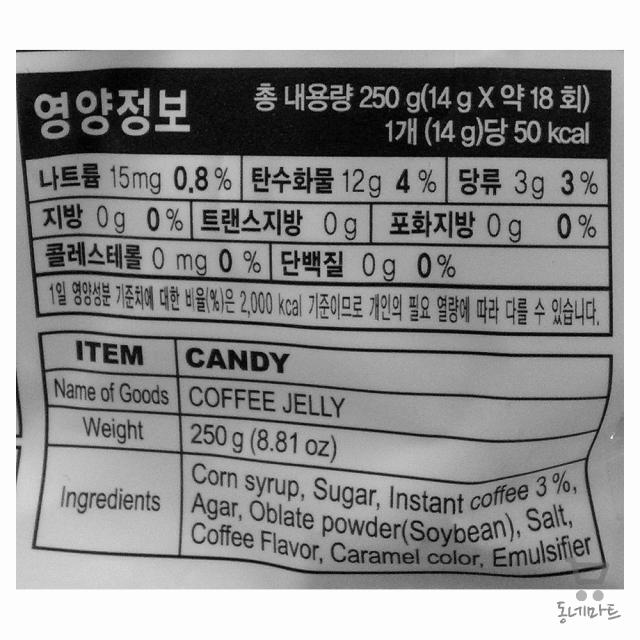Nutrition Label: (13, 51, 622, 349)
